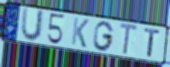5: (46, 12, 66, 45)
G: (93, 20, 115, 53)
K: (70, 16, 90, 49)
T: (118, 21, 139, 56), (143, 27, 162, 59)
U: (19, 7, 46, 43)
